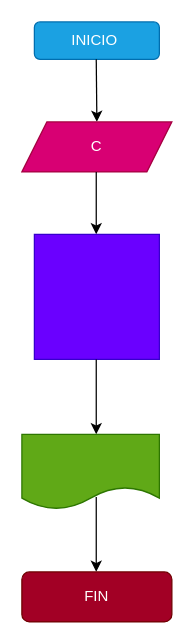
Some shapes in this 194 by 644 pixel diagram are drawn without their labels. The shapes that lost their labels are listed below. From the top down, each one's centre as x and y in pixels, then its label:
the point at 96,296: F:9/5C+32 K:27!15+C
the point at 90,471: F,K
